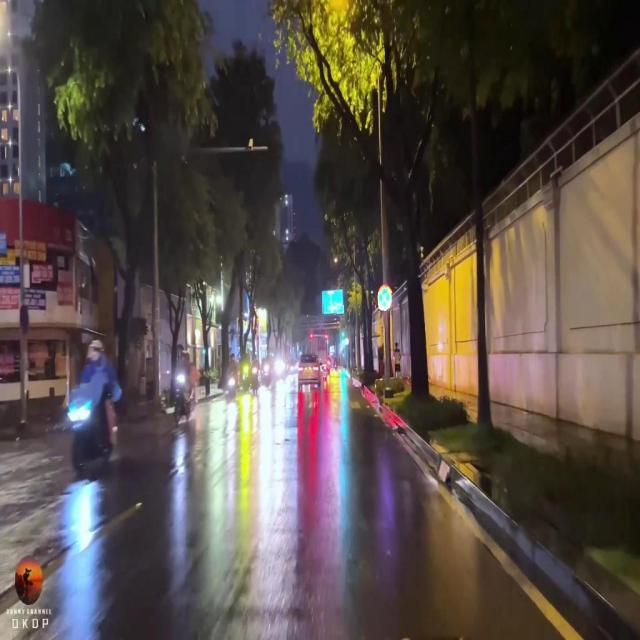cam_dung_xe_va_do_xe: (378, 284, 394, 311)
khac: (322, 290, 344, 314)
